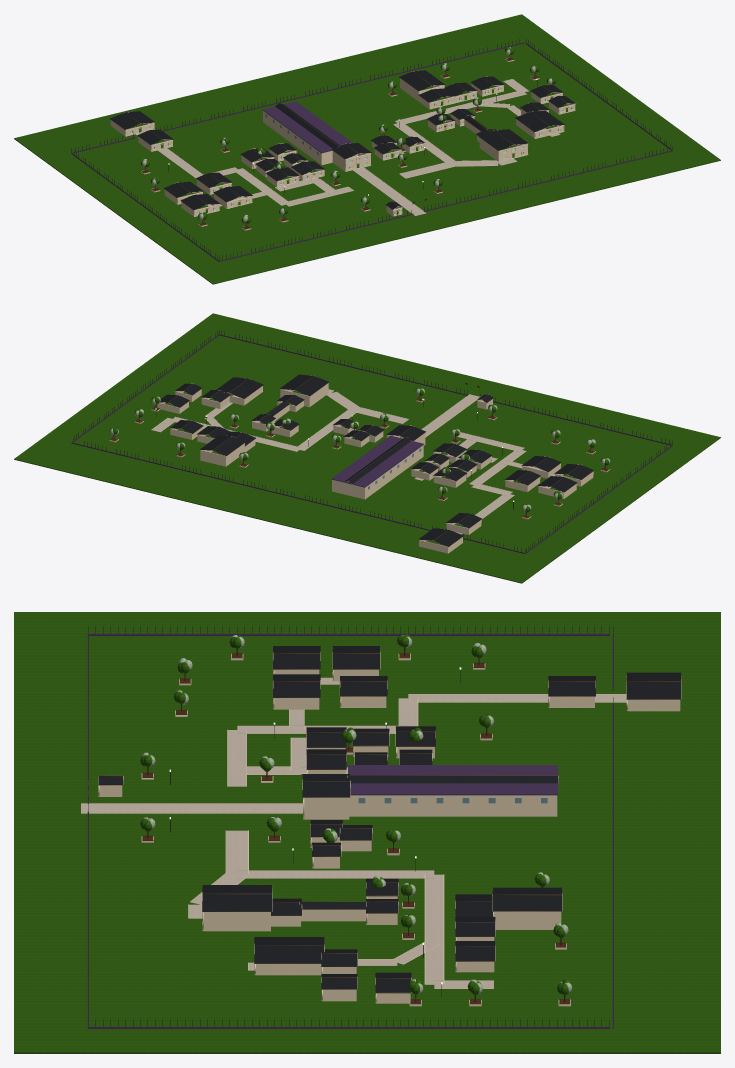
Rendered from explore3d__finish_context.glb.
3 renders of one model, top to bottom at view 1: azimuth 30°, elevation 25°; view 2: azimuth 150°, elevation 25°; view 3: azimuth 270°, elevation 25°, orthographic. The views are drawn at different scales.
Parts seen in each view (by area): view 1: boundary_base; view 2: boundary_base; view 3: boundary_base.
Part boxes in pixels (left/top/right/bottom): boundary_base: left=14, top=14, right=720, bottom=284; boundary_base: left=14, top=313, right=720, bottom=583; boundary_base: left=14, top=612, right=720, bottom=1053.
Bounding box in the file's own units: 280 × 8.62 × 190.
Materials: 17 (13 with a texture image).
